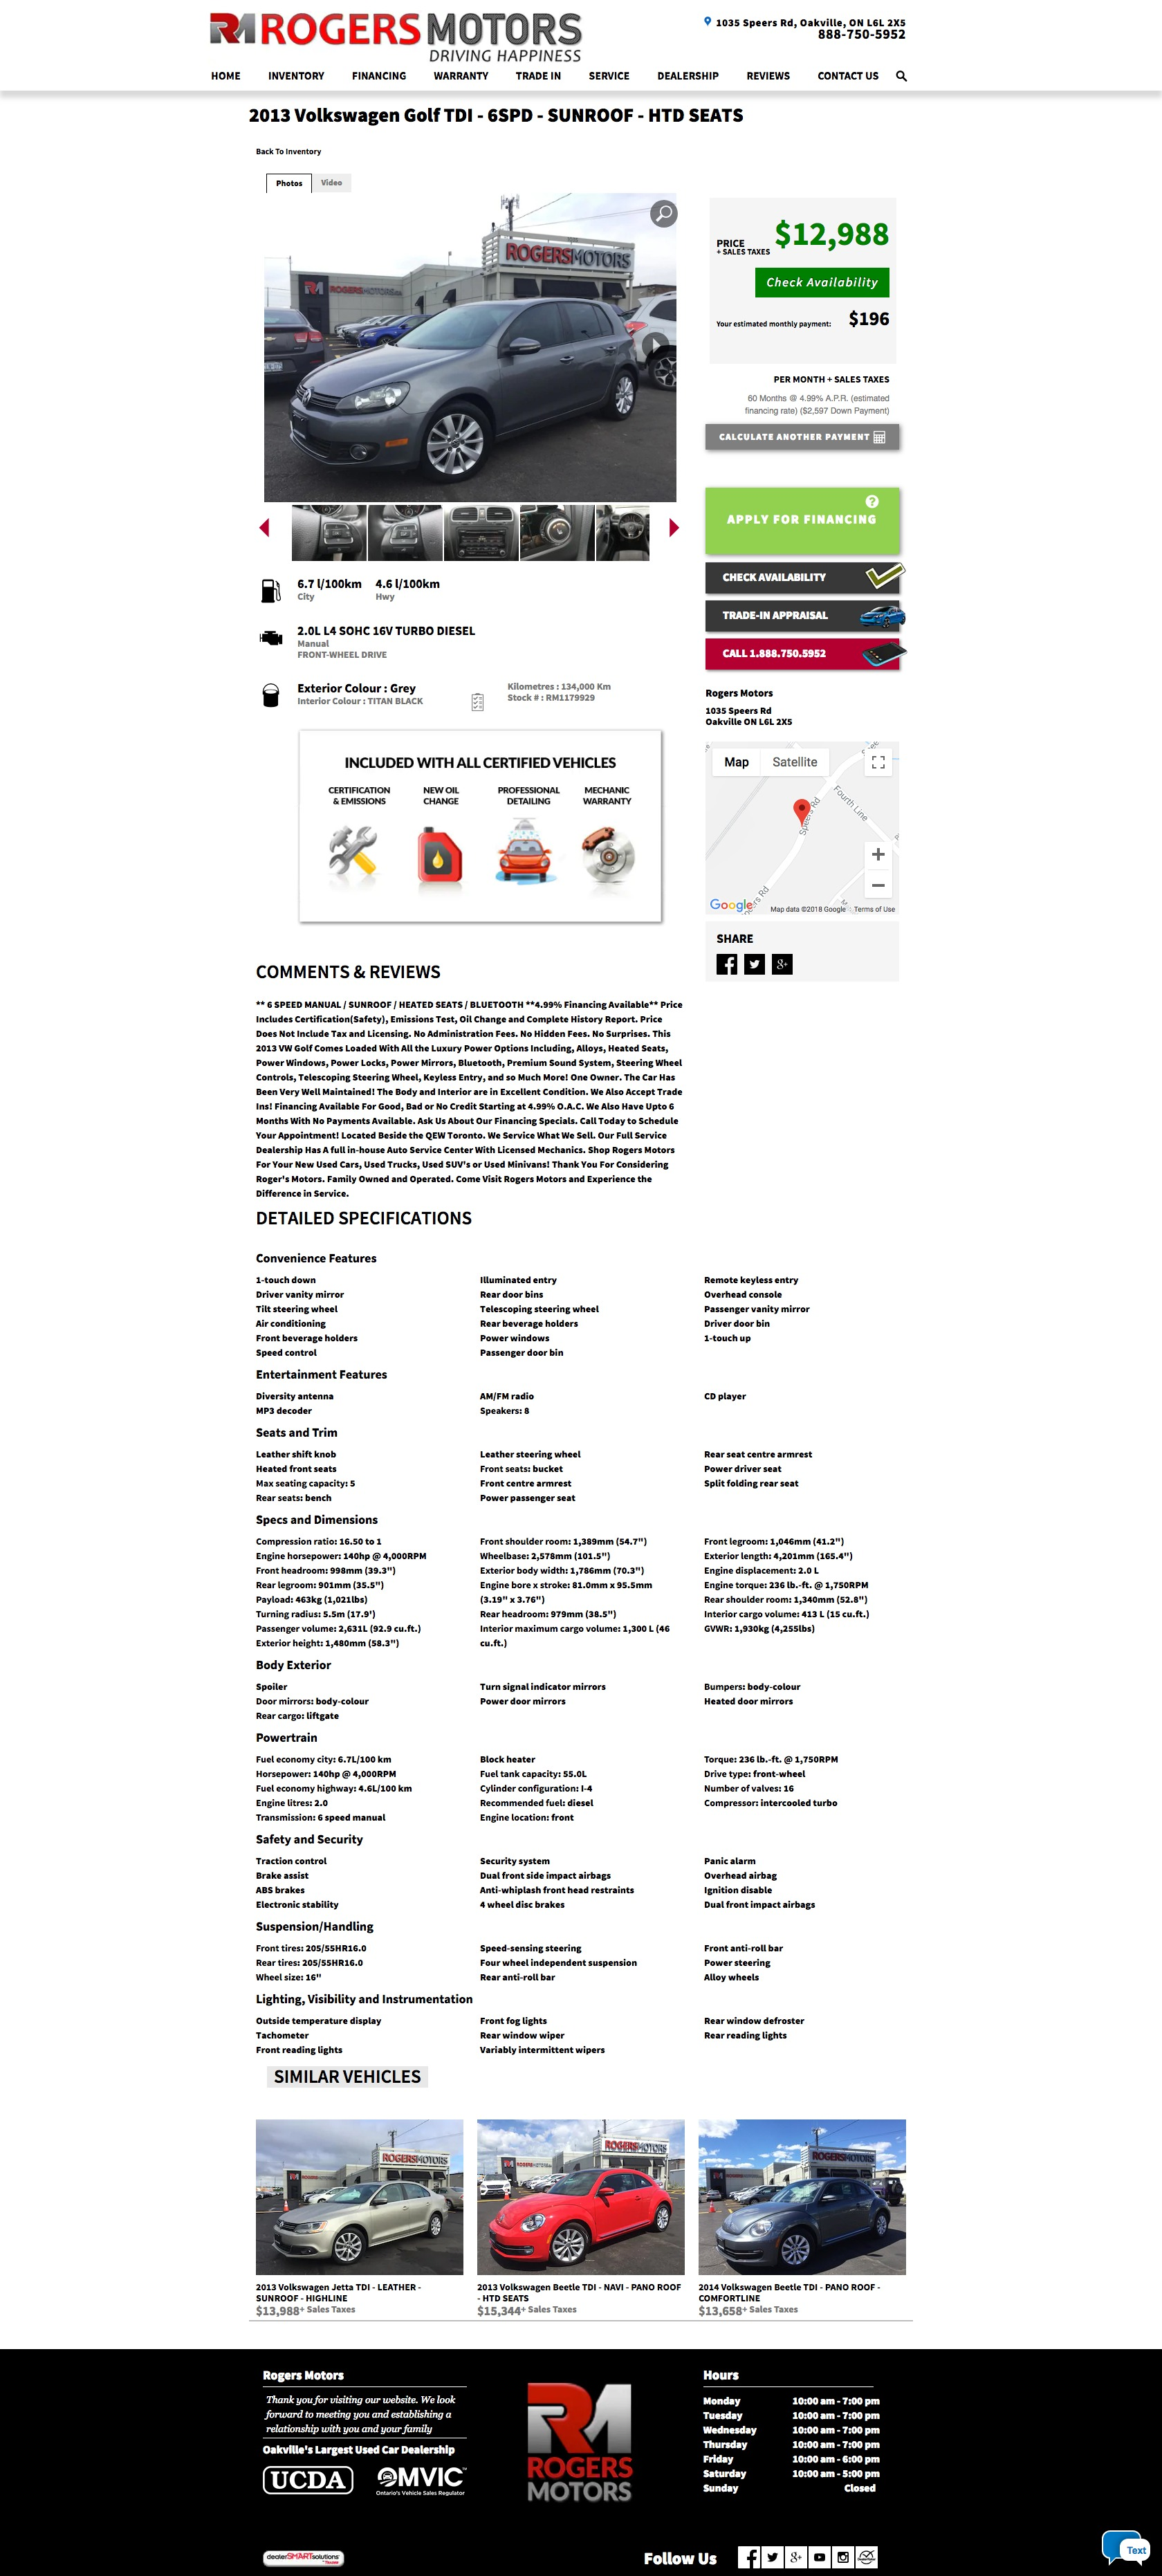car: (667, 516, 682, 540)
